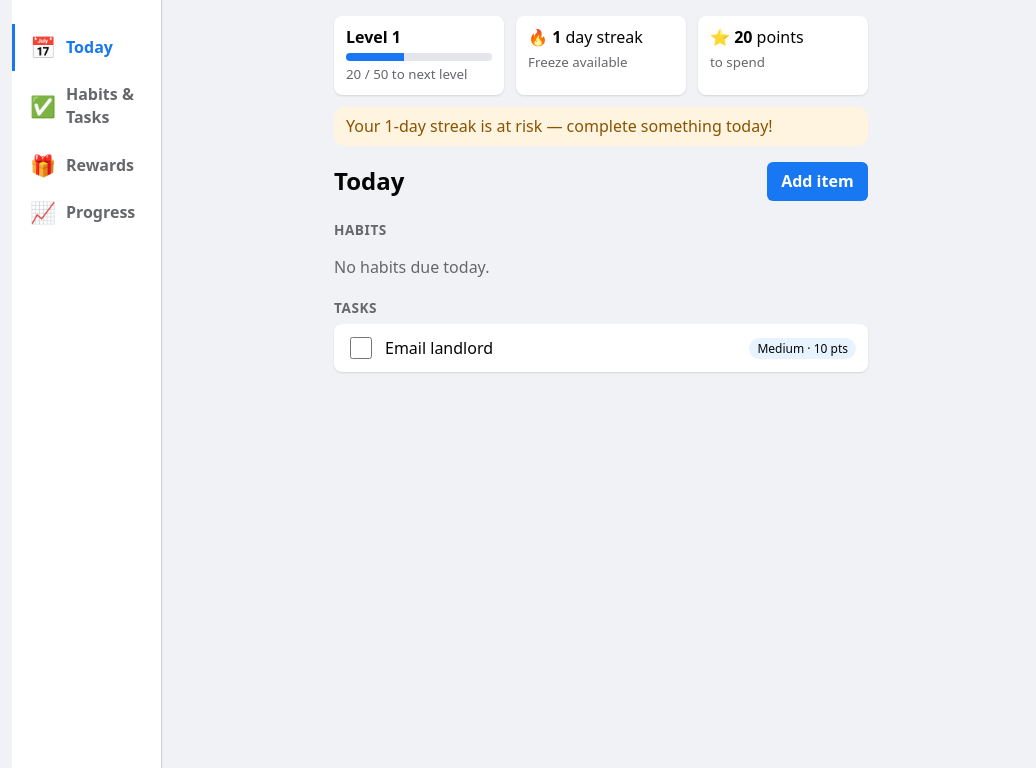
Habits & Tasks screen › deletes a task after confirmation but keeps its earned points
Step 1. Click the button "✅ Habits & Tasks" → (86,106), box [12,71,161,142]
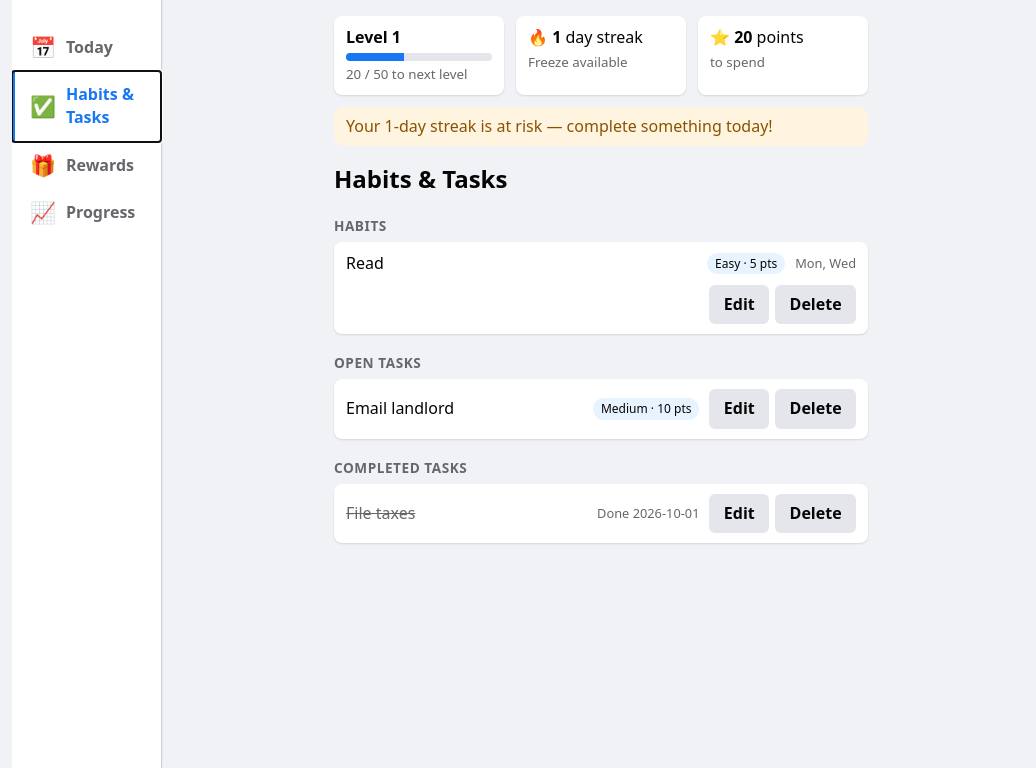
Step 2. Click the button named "delete file taxes" → (816,514), box [775,494,856,533]
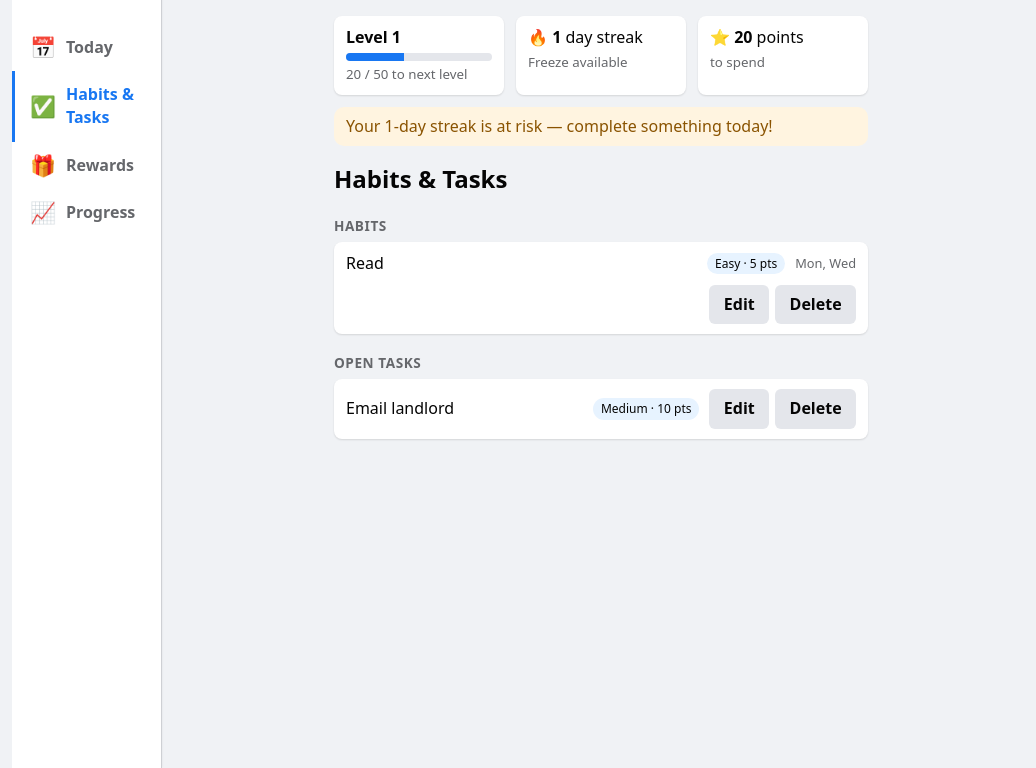
Expected: the text with test id "balance" reads "20", [734,26,752,48]
Now the text "File taxes" is gone
